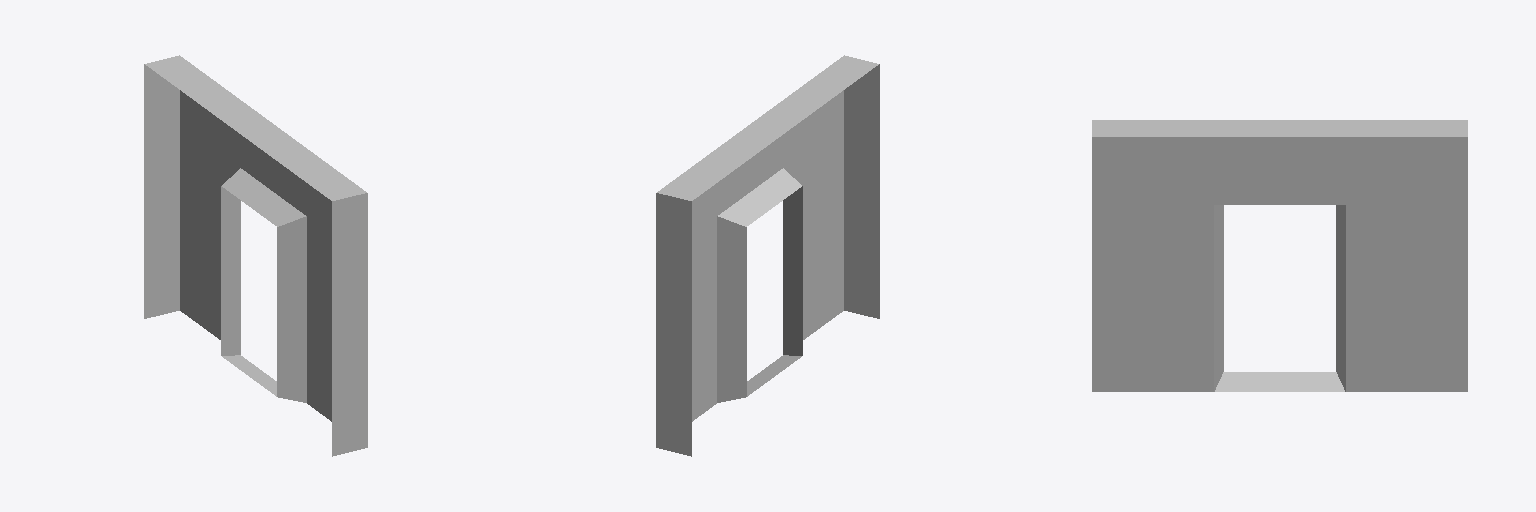
File: underground_doorhole.obj
The picture shows the model from 3 angles: view 1: azimuth 30°, elevation 25°; view 2: azimuth 150°, elevation 25°; view 3: azimuth 270°, elevation 25°; orthographic projection.
Bounding box in the file's own units: 0.4357 × 3 × 4.